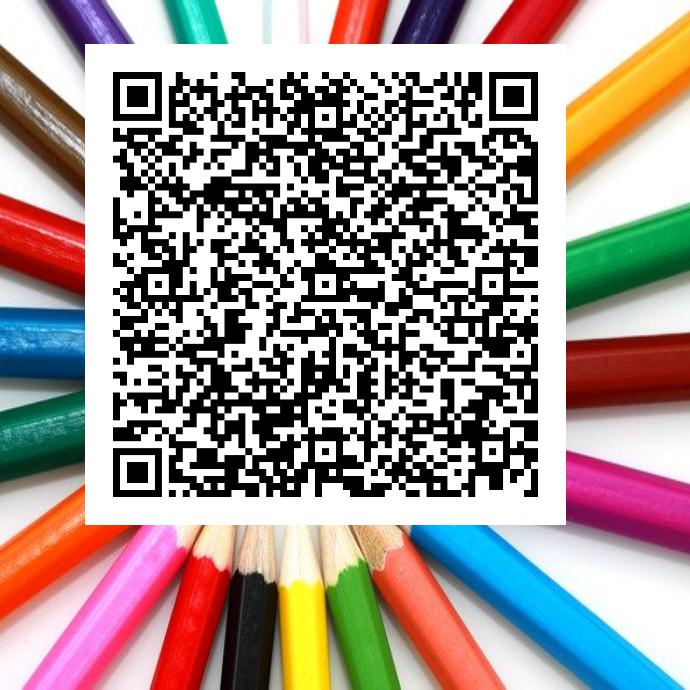qr_code: (85, 44, 565, 524)
